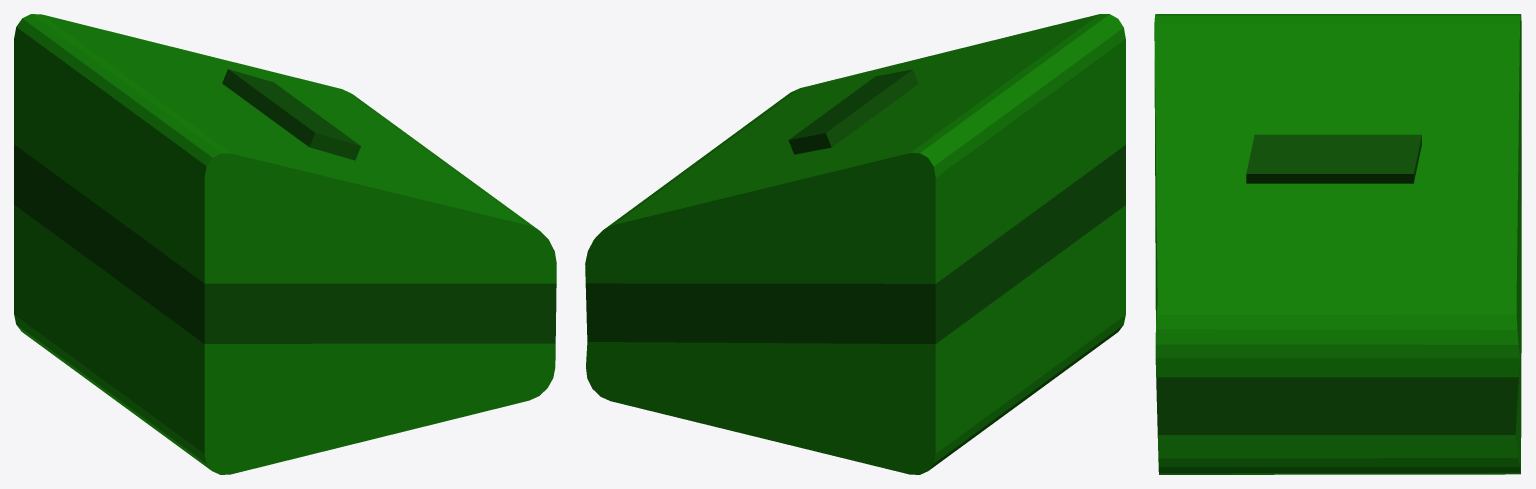
The model's file is Cache1.fbx.
3 views of the same model, side by side, from view 1: azimuth 30°, elevation 25°; view 2: azimuth 150°, elevation 25°; view 3: azimuth 270°, elevation 25° (orthographic). The views are drawn at different scales.
Visible parts, largest first — view 1: Cube.008; view 2: Cube.008; view 3: Cube.008.
Boxes of the visible parts, left/top/right/bottom form: Cube.008: left=14, top=14, right=556, bottom=474; Cube.008: left=585, top=14, right=1125, bottom=474; Cube.008: left=1154, top=14, right=1521, bottom=474.
Size of the model in its own units: 220 by 194 by 207.
